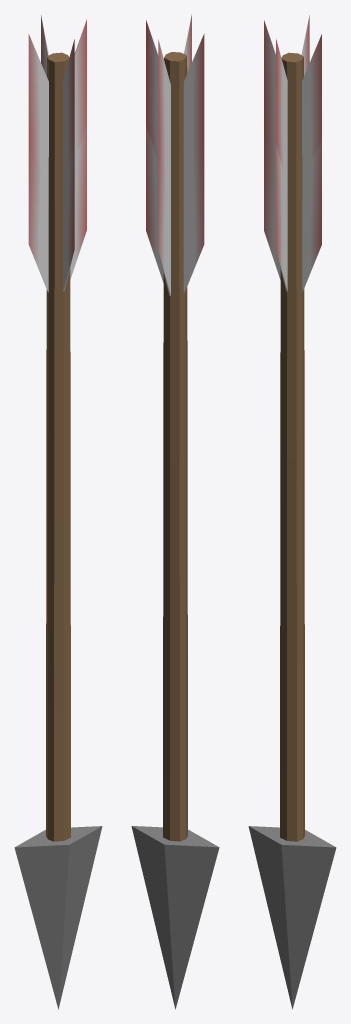
File: Arrow.dae
3 renders of one model, left to right at view 1: azimuth 30°, elevation 25°; view 2: azimuth 150°, elevation 25°; view 3: azimuth 330°, elevation 25°, orthographic.
Parts seen in each view (by area): view 1: Arrow; view 2: Arrow; view 3: Arrow.
Boxes of the visible parts, box(x1,y1,x2,y2) form: Arrow: box(14, 15, 102, 1009); Arrow: box(131, 14, 219, 1009); Arrow: box(248, 15, 336, 1009).
Size of the model in its own units: 0.3449 by 0.2279 by 3.68.
1 material, 1 textured.
